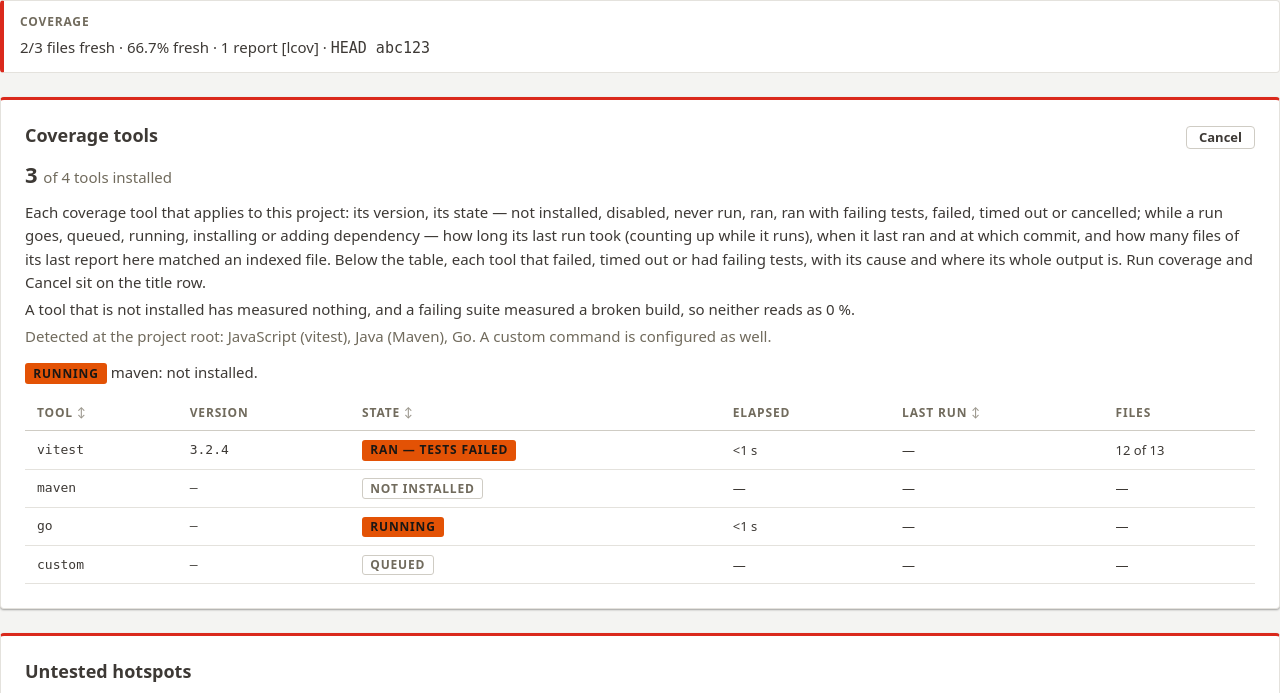
a refused request's alert (review) › is cleared by the next cancel that is answered
Click the button "Cancel" at {"x": 1220, "y": 137}, box [1186,126,1255,149]
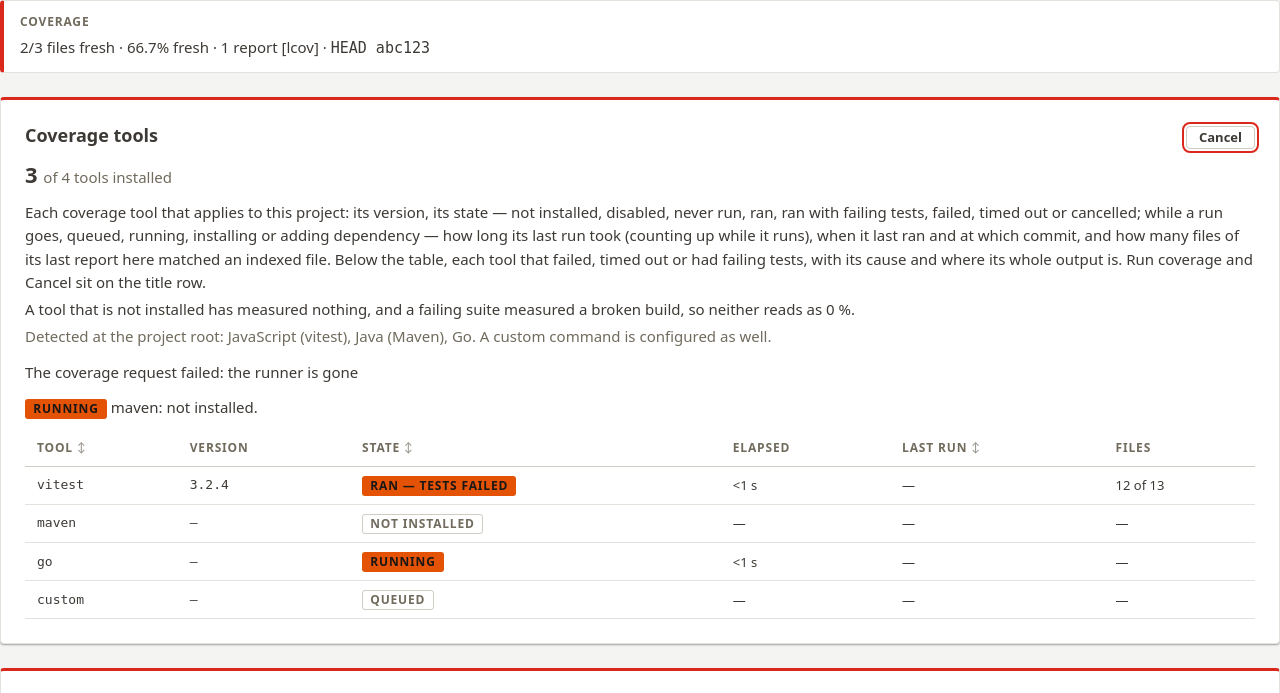
Check: the message "The coverage request failed: the runner is gone" is shown, box [25,362,358,382]
Click the button "Cancel" at {"x": 1220, "y": 137}, box [1186,126,1255,149]
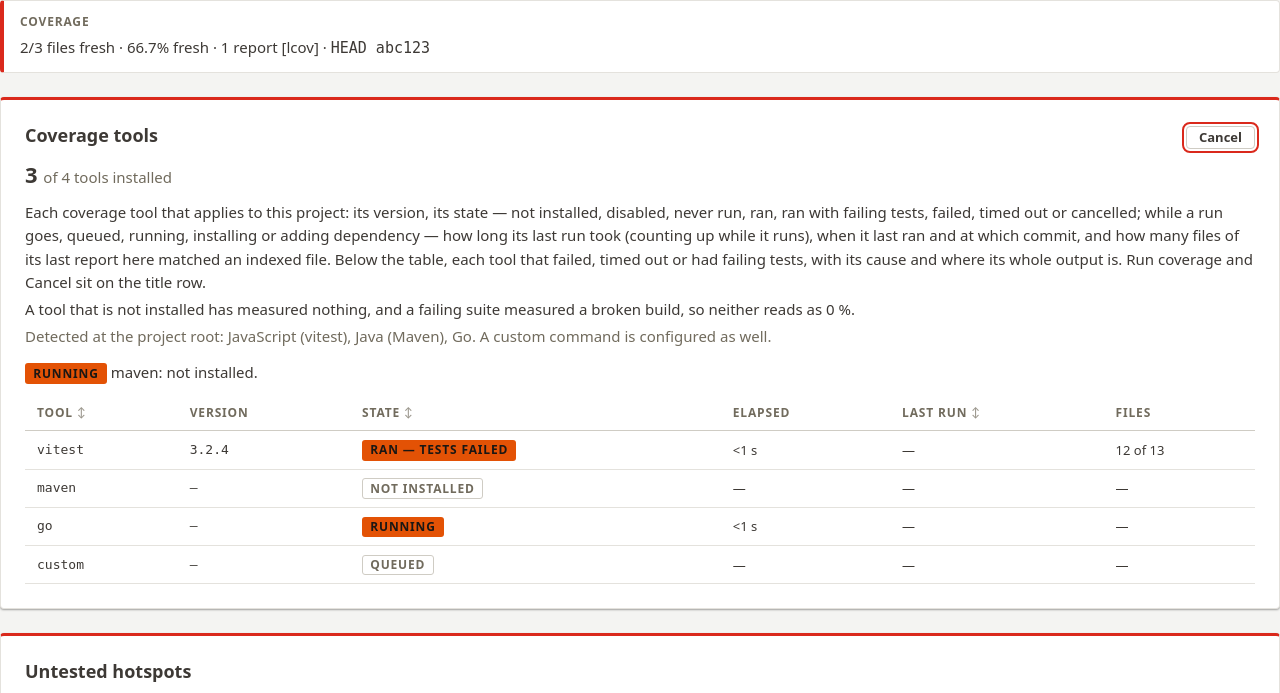
Check: the message "The coverage request failed: the runner is gone" is gone
